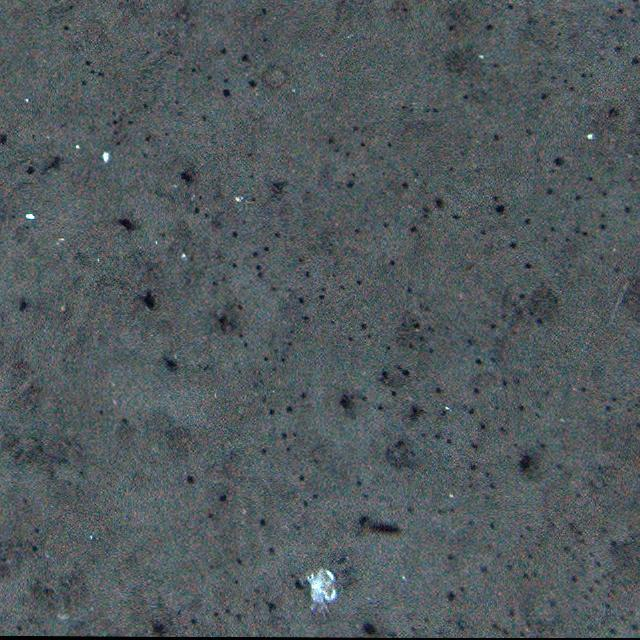crab: (302, 567, 340, 614)
